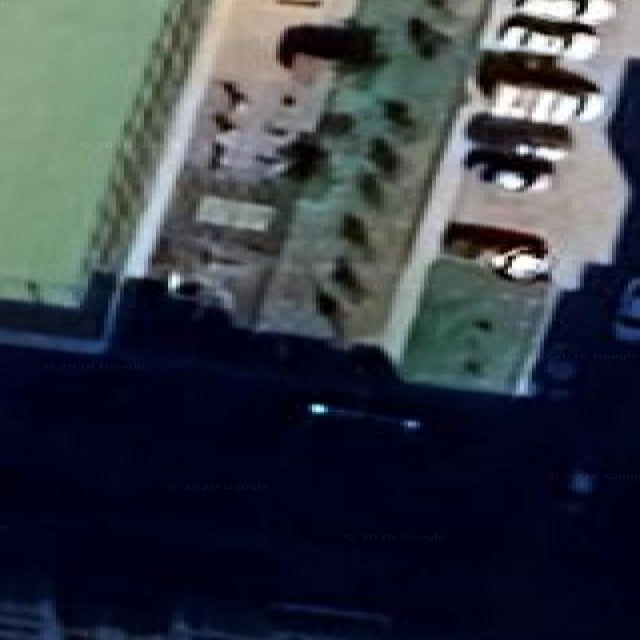car: (515, 0, 615, 23), (491, 247, 547, 280), (613, 278, 639, 340)
